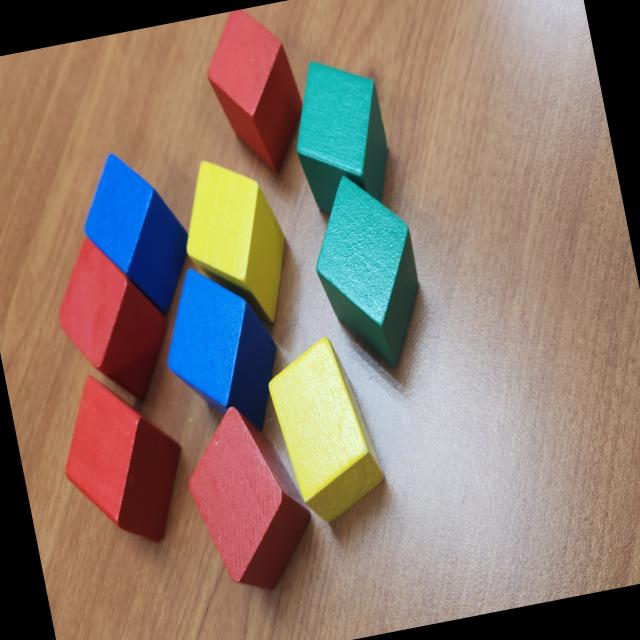blue: (150, 253, 293, 448), (71, 140, 205, 329)
green: (299, 165, 436, 382), (278, 48, 399, 220)
red: (175, 394, 325, 602), (48, 359, 200, 562), (43, 222, 182, 414), (196, 2, 315, 185)
yellow: (261, 330, 392, 530), (169, 146, 302, 339)
